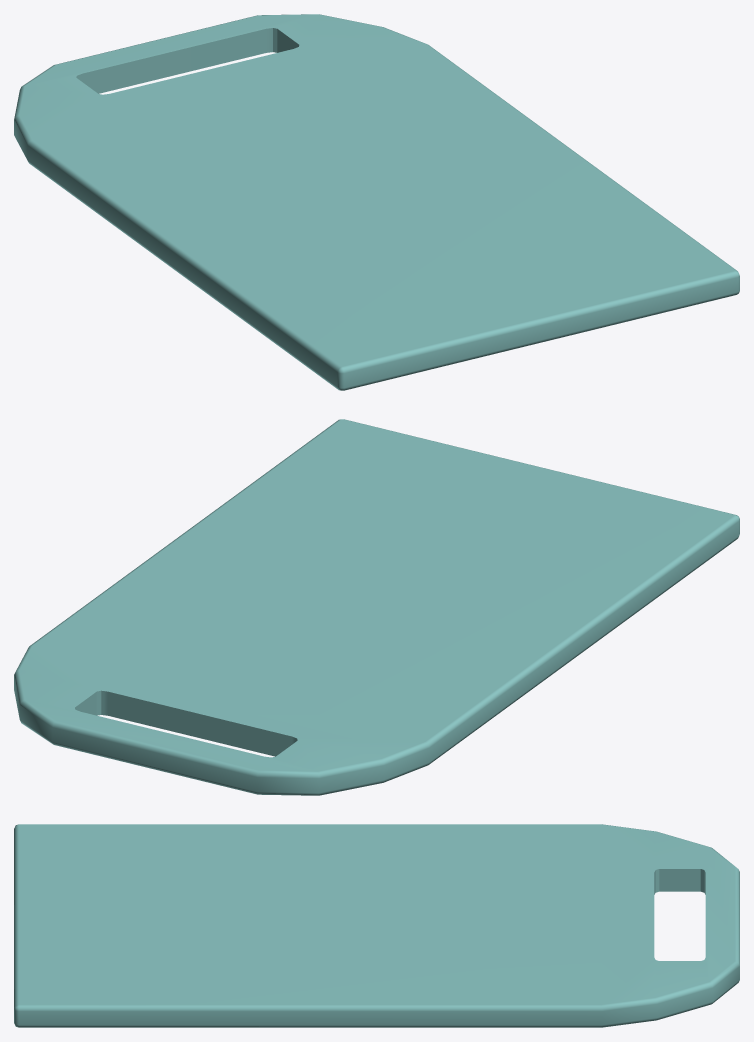
Rendered from cutting board.fbx.
3 renders of one model, top to bottom at view 1: azimuth 30°, elevation 25°; view 2: azimuth 150°, elevation 25°; view 3: azimuth 270°, elevation 25°, orthographic. The views are drawn at different scales.
Parts seen in each view (by area): view 1: pCube188; view 2: pCube188; view 3: pCube188.
Part boxes in pixels (x1,y1,x2,y2): pCube188: (14, 14, 739, 390); pCube188: (14, 419, 739, 795); pCube188: (14, 824, 739, 1027).
Size of the model in its own units: 0.5064 by 0.0291 by 0.842.
